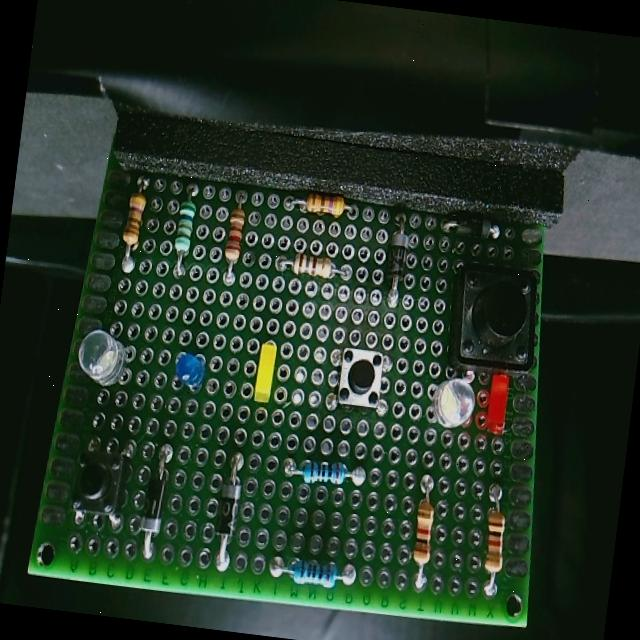diode: (210, 462, 245, 548), (134, 464, 171, 536), (383, 217, 413, 294), (443, 206, 499, 244)
led: (70, 319, 132, 392), (426, 370, 478, 437), (243, 334, 284, 406), (478, 370, 518, 440), (168, 348, 206, 397)
resistor: (406, 489, 445, 573), (474, 497, 512, 581), (274, 243, 340, 286), (284, 552, 340, 598), (115, 180, 148, 253), (215, 208, 249, 272), (286, 190, 352, 220), (297, 454, 350, 488), (170, 190, 197, 256)
switch: (446, 249, 548, 377), (66, 440, 134, 520), (330, 339, 390, 418)
